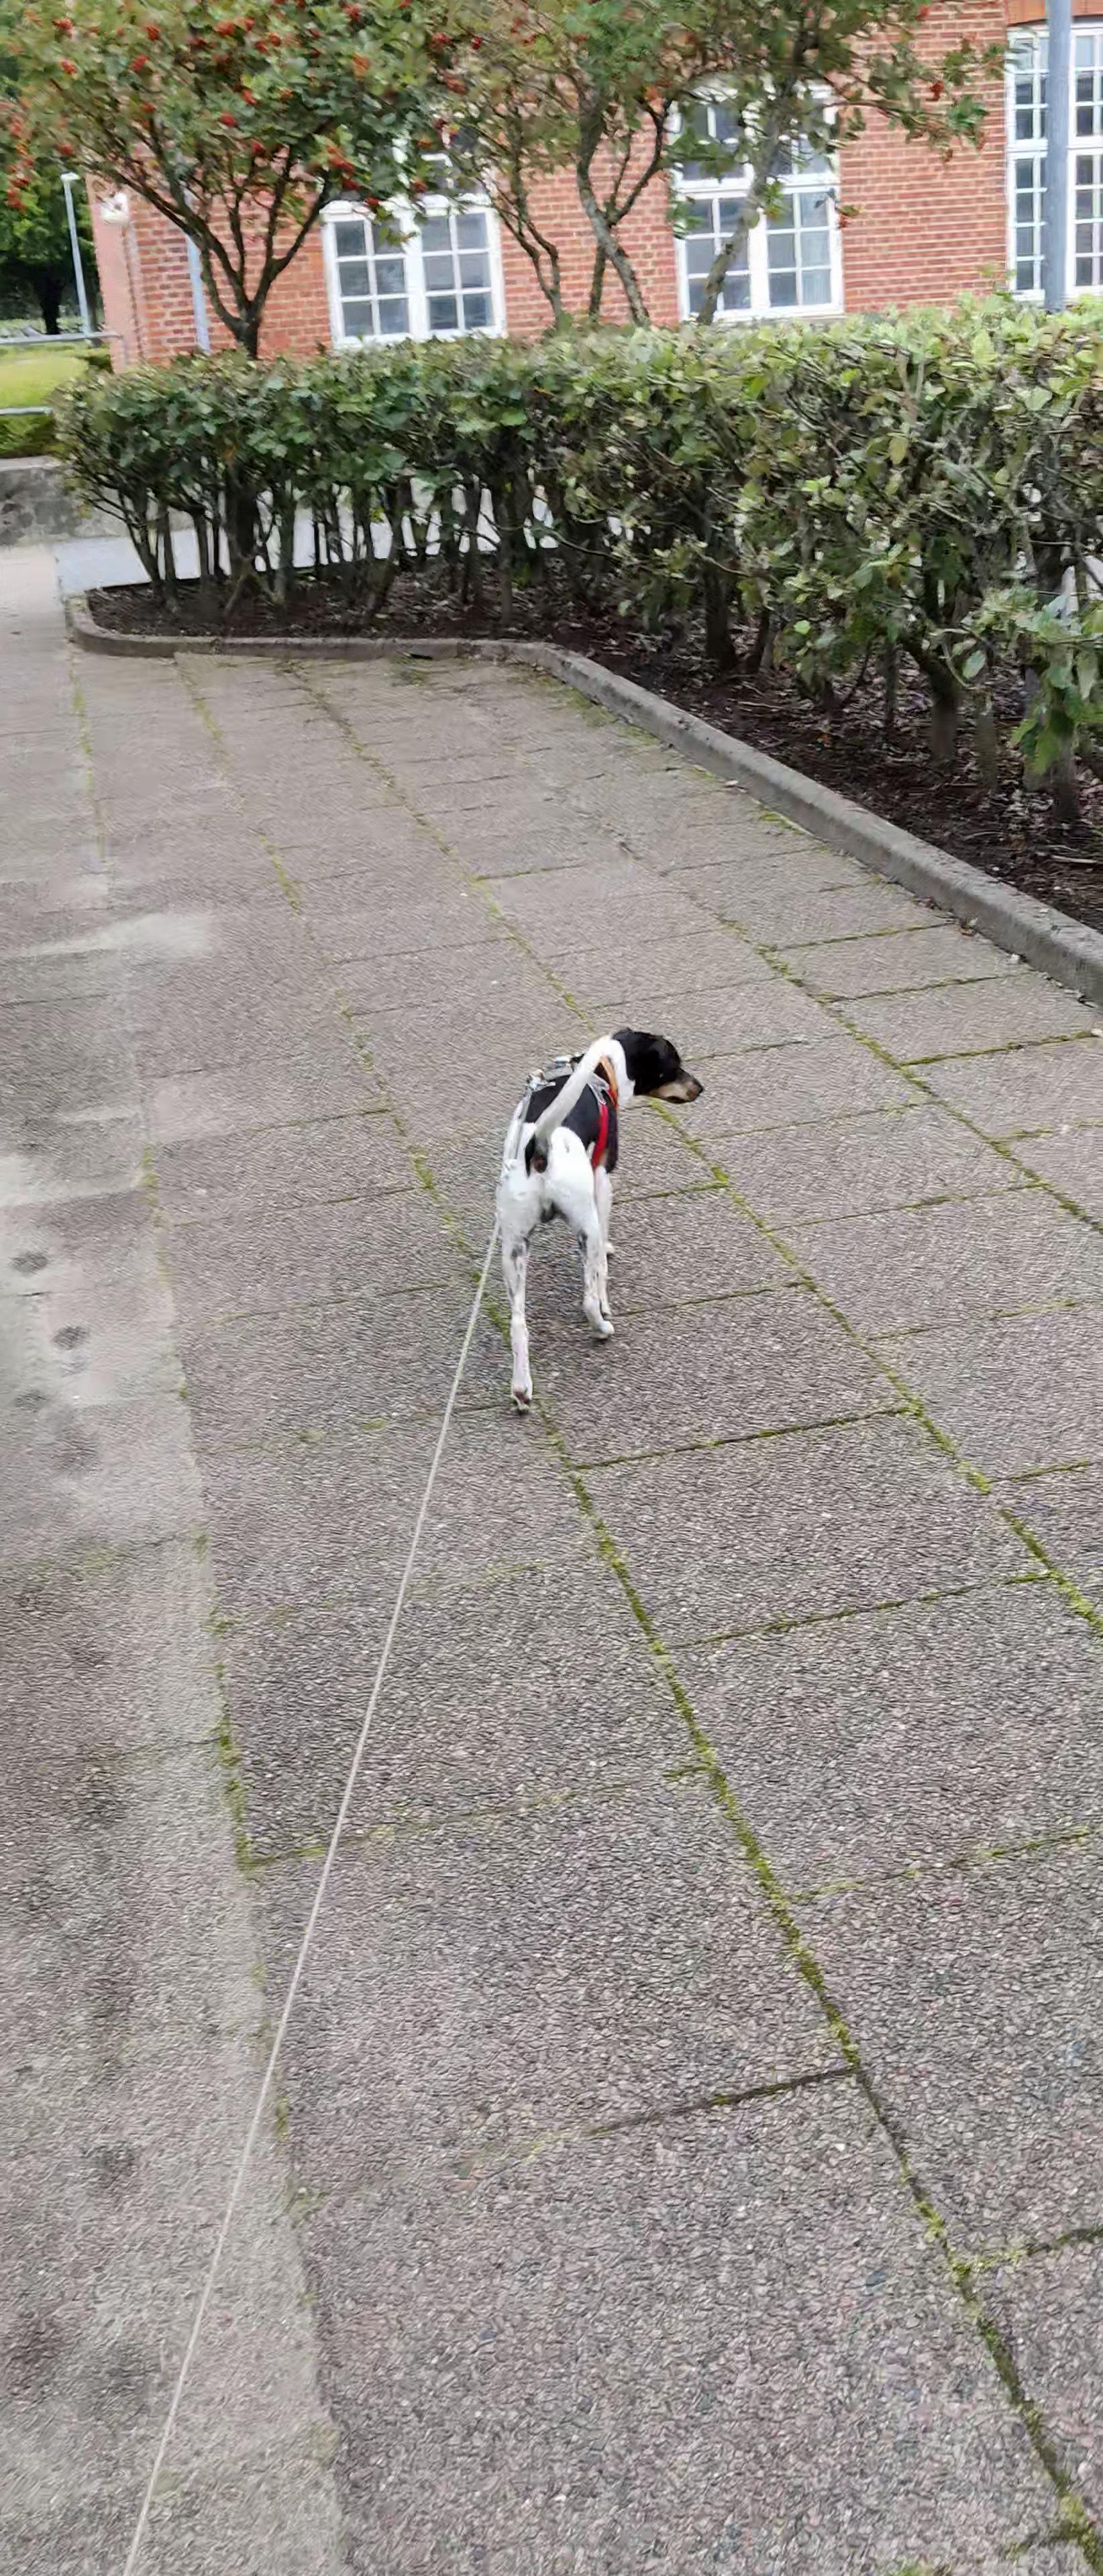Dog: (488, 1009, 708, 1421)
